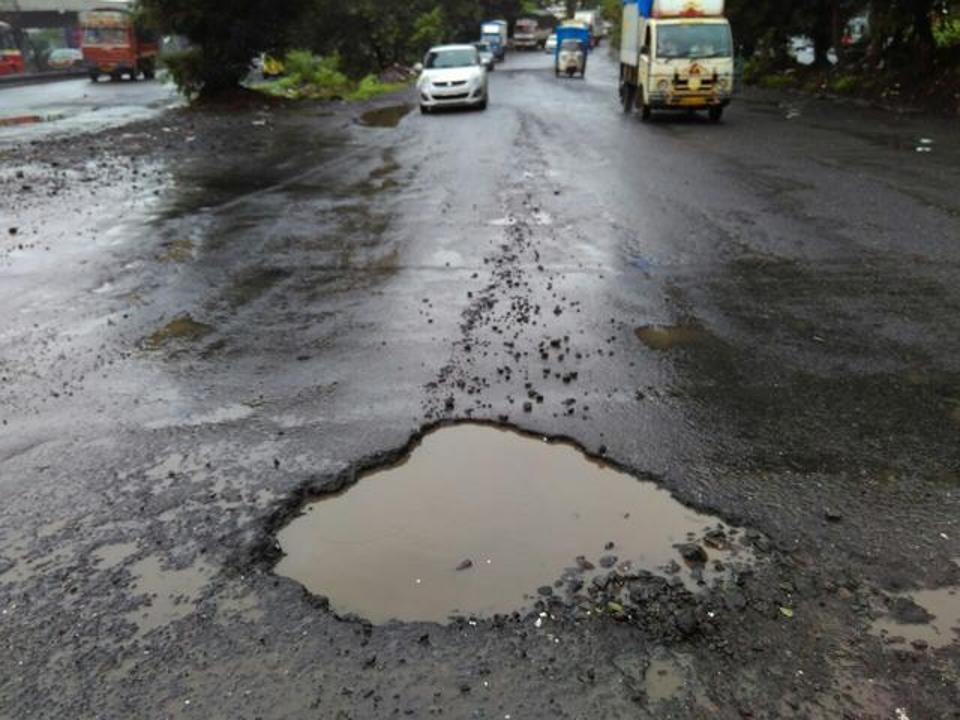pothole: (213, 374, 822, 686)
